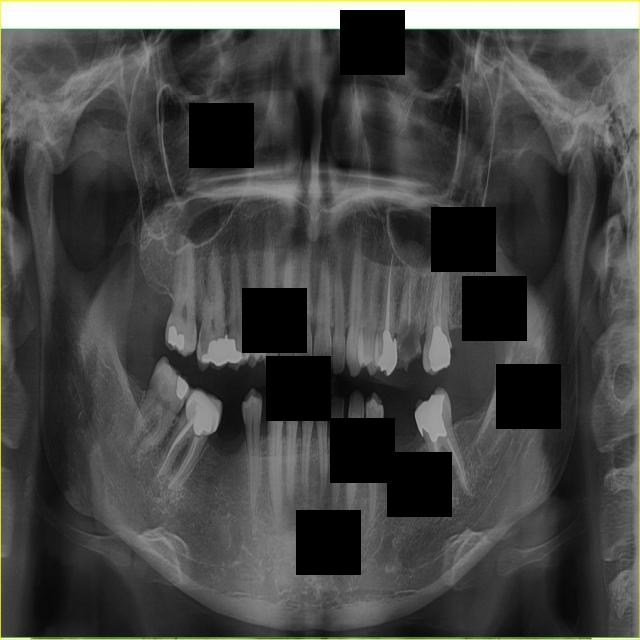71: (168, 416, 197, 448)
74: (150, 419, 194, 477), (169, 435, 200, 491), (443, 432, 469, 492), (430, 440, 454, 503), (384, 252, 393, 331), (437, 260, 444, 327), (407, 280, 412, 322)
NucleOSS Implant: (414, 395, 447, 443), (425, 327, 451, 373), (377, 330, 403, 375), (202, 333, 234, 369), (220, 334, 244, 366), (192, 407, 213, 437), (167, 325, 184, 352), (175, 376, 189, 398)
Sterngold Implant: (396, 319, 424, 370), (195, 326, 209, 357), (160, 378, 169, 397), (280, 330, 286, 354), (292, 337, 299, 352)
Zimmer Implant: (179, 388, 228, 437)
